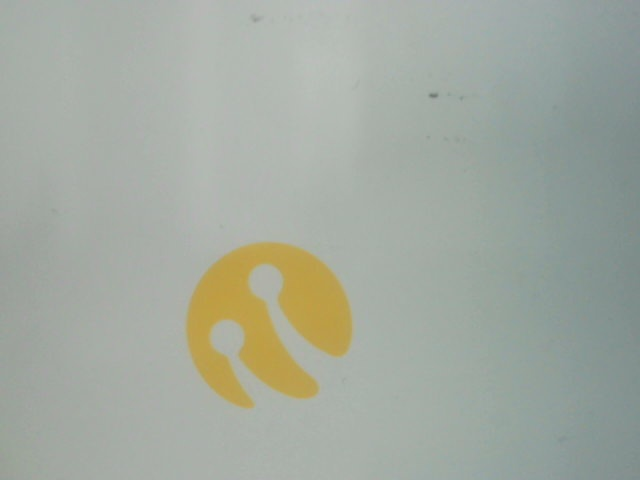AV_H3600Yellow: (164, 245, 367, 408)
